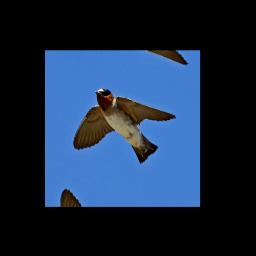Swallow: (70, 81, 178, 181)
